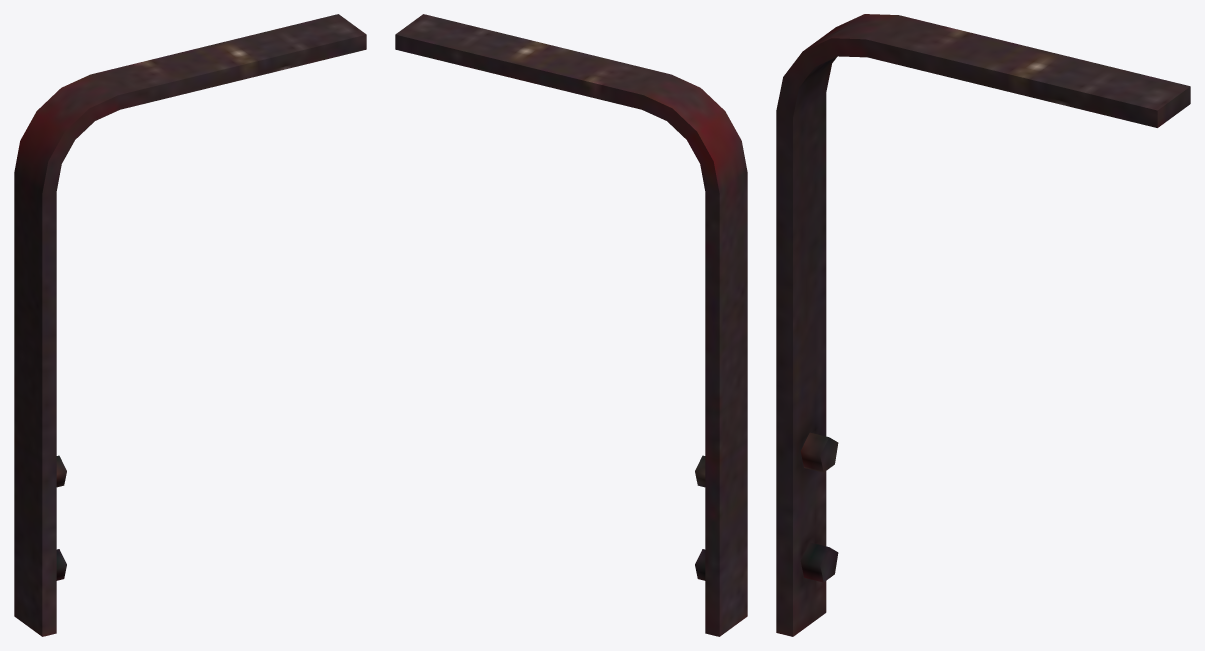
Rendered from WallMountedHanger.FBX.
3 views of the same model, side by side, from view 1: azimuth 30°, elevation 25°; view 2: azimuth 150°, elevation 25°; view 3: azimuth 330°, elevation 25° (orthographic). The views are drawn at different scales.
Parts seen in each view (by area): view 1: WallMountedHanger; view 2: WallMountedHanger; view 3: WallMountedHanger.
Part boxes in pixels (left/top/right/bottom): WallMountedHanger: left=14, top=14, right=366, bottom=636; WallMountedHanger: left=395, top=14, right=747, bottom=636; WallMountedHanger: left=776, top=14, right=1190, bottom=636.
Bounding box in the file's own units: 29.93 × 46.15 × 4.5.
